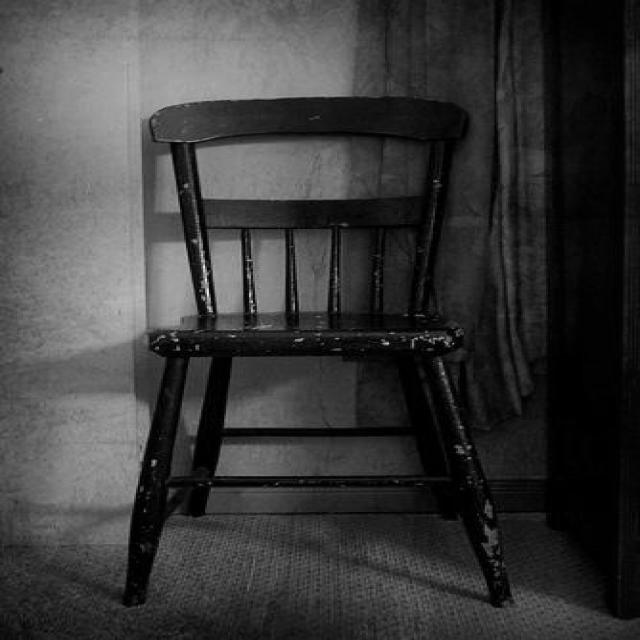chair: (124, 95, 521, 612)
